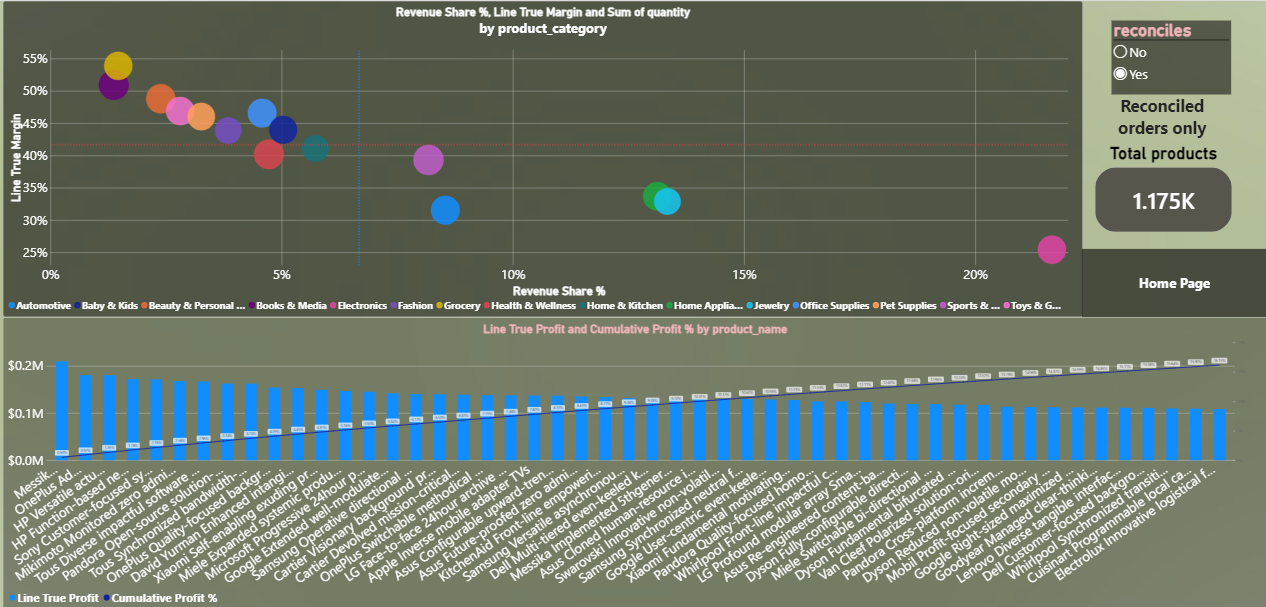

This screenshot's page, from the dashboard's own definition file:
{"tool":"powerbi","page":{"name":"Product Portfolio","canvas":[4500,2160],"ordinal":9},"visuals":[{"type":"scatterChart","fields":{"Series":["Product_Dim.product_category"],"Size":["Sum(Order_Items.quantity)"],"X":["Measures Table.Revenue Share %"],"Y":["Measures Table.Line True Margin"]},"box":[9.5,0,3831.8,1121.4],"z":0},{"type":"slicer","fields":{"Values":["Orders.reconciles"]},"box":[3942.7,69.2,424.7,262.5],"z":0,"group":"g1"},{"type":"textbox","box":[3880.7,331.7,486.7,176.6],"z":1000,"group":"g1"},{"type":"lineClusteredColumnComboChart","fields":{"Category":["Product_Dim.product_name"],"Y":["Measures Table.Line True Profit"],"Y2":["Measures Table.Cumulative Profit %"]},"box":[10.6,1123.2,4487.6,1038.1],"z":1000},{"type":"group","id":"g1","title":"Group 1","box":[3880.7,69.2,489.8,436.5],"z":2000},{"type":"cardVisual","title":"Total products","fields":{"Data":["Count(Product_Dim.product_name)"]},"box":[3886.1,505.7,486.7,314.9],"z":3000},{"type":"actionButton","box":[3838.2,878.4,660.1,244.9],"z":3001}]}

Visuals, with their boxes in screenshot pixels (x1, y1, x2, y2), scaled from the page's 4500x2160 canvas onto the 1266x607 screenshot:
scatterChart - Product_Dim.product_category x Sum(Order_Items.quantity): {"left": 3, "top": 0, "right": 1081, "bottom": 315}
slicer - Orders.reconciles: {"left": 1109, "top": 19, "right": 1229, "bottom": 93}
textbox: {"left": 1092, "top": 93, "right": 1229, "bottom": 143}
lineClusteredColumnComboChart - Product_Dim.product_name x Measures Table.Line True Profit: {"left": 3, "top": 316, "right": 1265, "bottom": 606}
"Group 1" group: {"left": 1092, "top": 19, "right": 1230, "bottom": 142}
"Total products" cardVisual: {"left": 1093, "top": 142, "right": 1230, "bottom": 231}
actionButton: {"left": 1080, "top": 247, "right": 1265, "bottom": 316}
